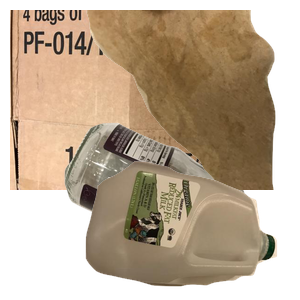cardboard: (10, 10, 250, 190)
glass: (62, 120, 300, 300)
plastic: (83, 159, 300, 300)
trash: (84, 10, 300, 190)
